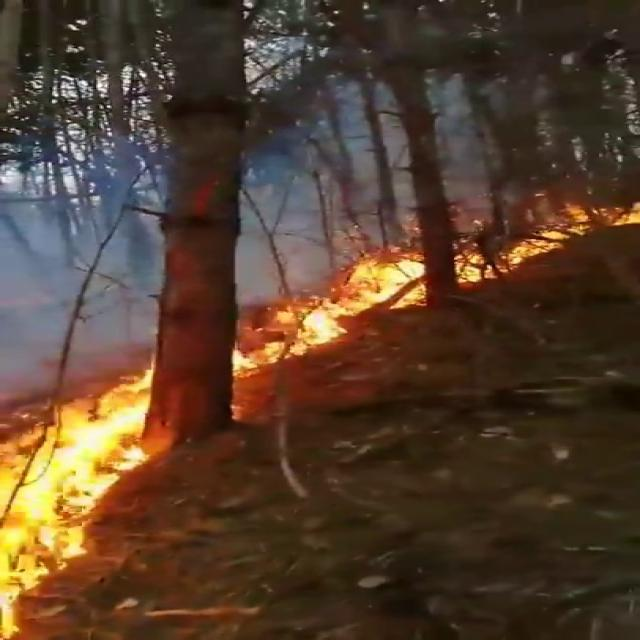Fire: (0, 364, 175, 640), (232, 250, 446, 376), (466, 188, 640, 280)
Smoke: (6, 78, 495, 347)
